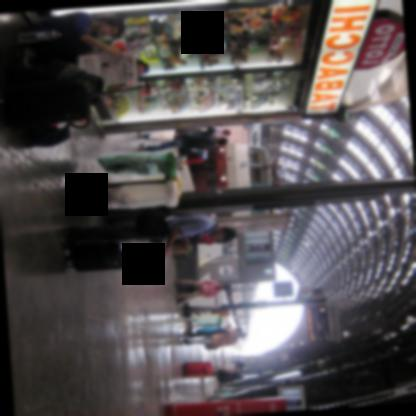backpack: (213, 367, 242, 384)
handbag: (205, 340, 237, 351)
suitcase: (0, 65, 154, 126), (65, 241, 125, 272), (25, 125, 69, 148), (180, 361, 212, 379)
